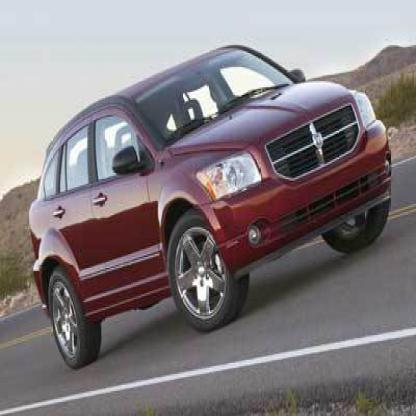Vehicle: (29, 44, 393, 372)
